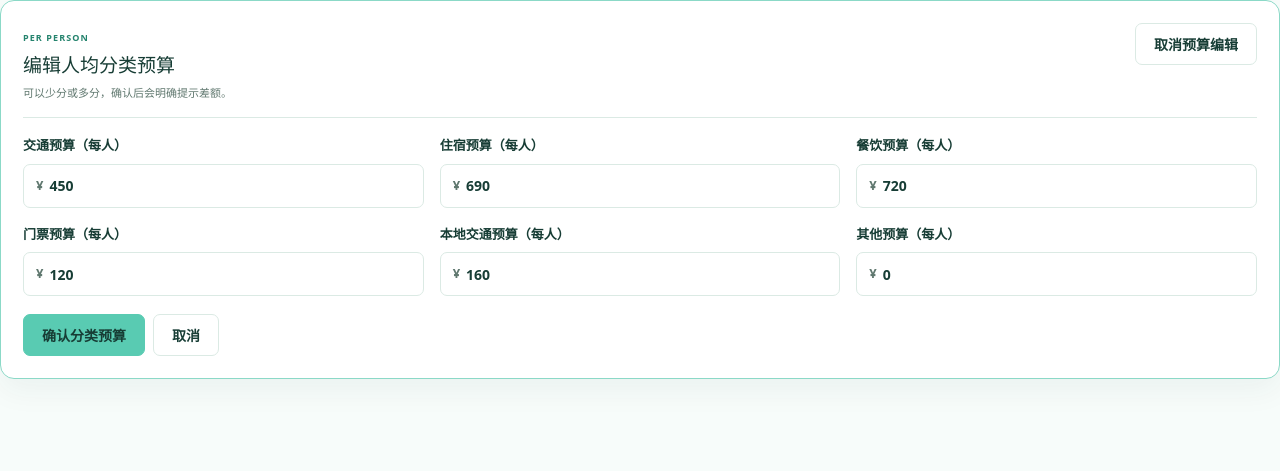
it: 负数额度阻止确认并把焦点移到第一个错误字段
Replace the text in the number field labelled "交通预算（每人）" with "-1" at (233,186), box [43,165,423,207]
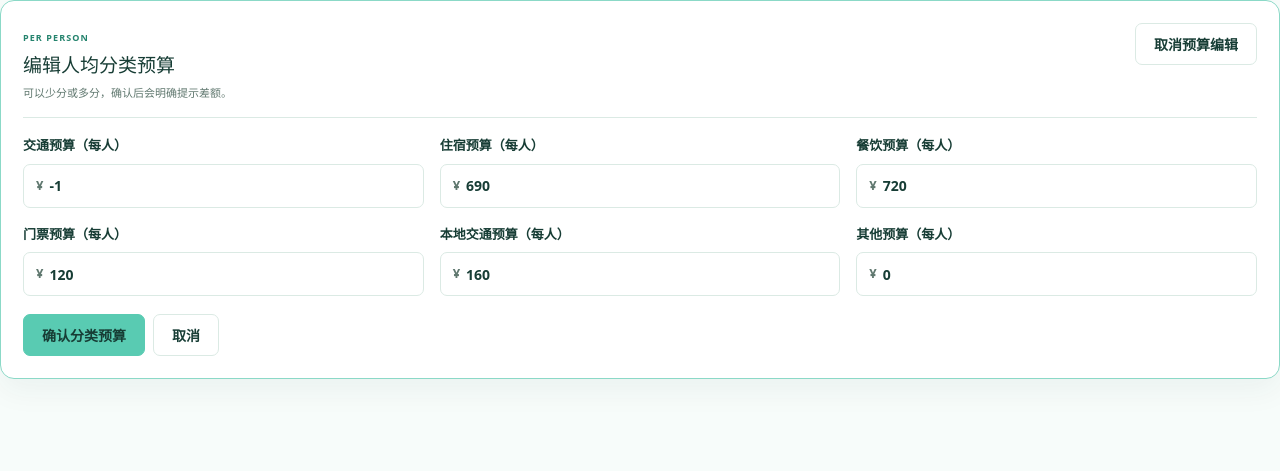
Click the button "确认分类预算".
click(84, 335)  # box [23,314,145,356]
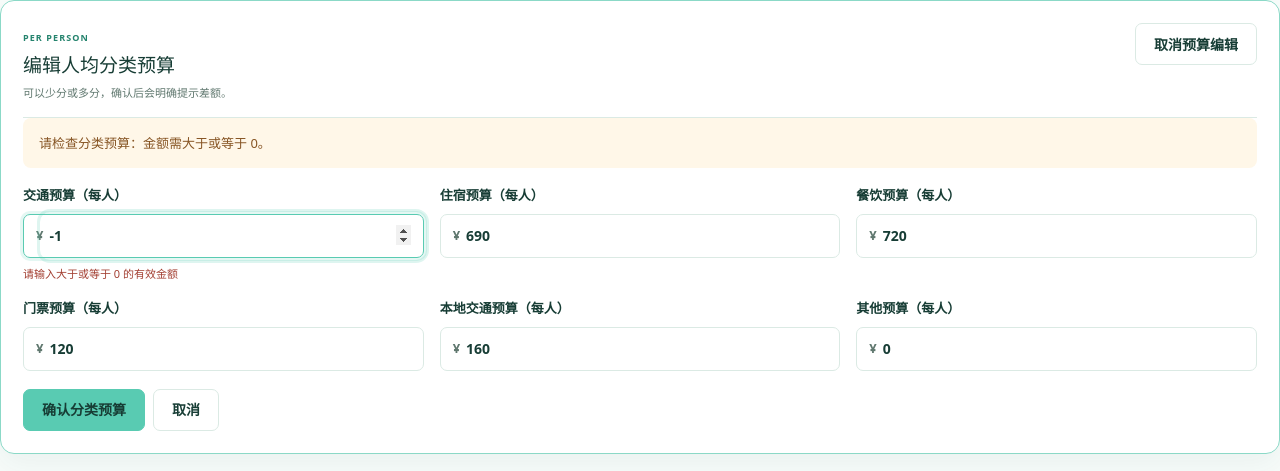
Result: the message shows "请检查分类预算" at [39,134,271,152]
